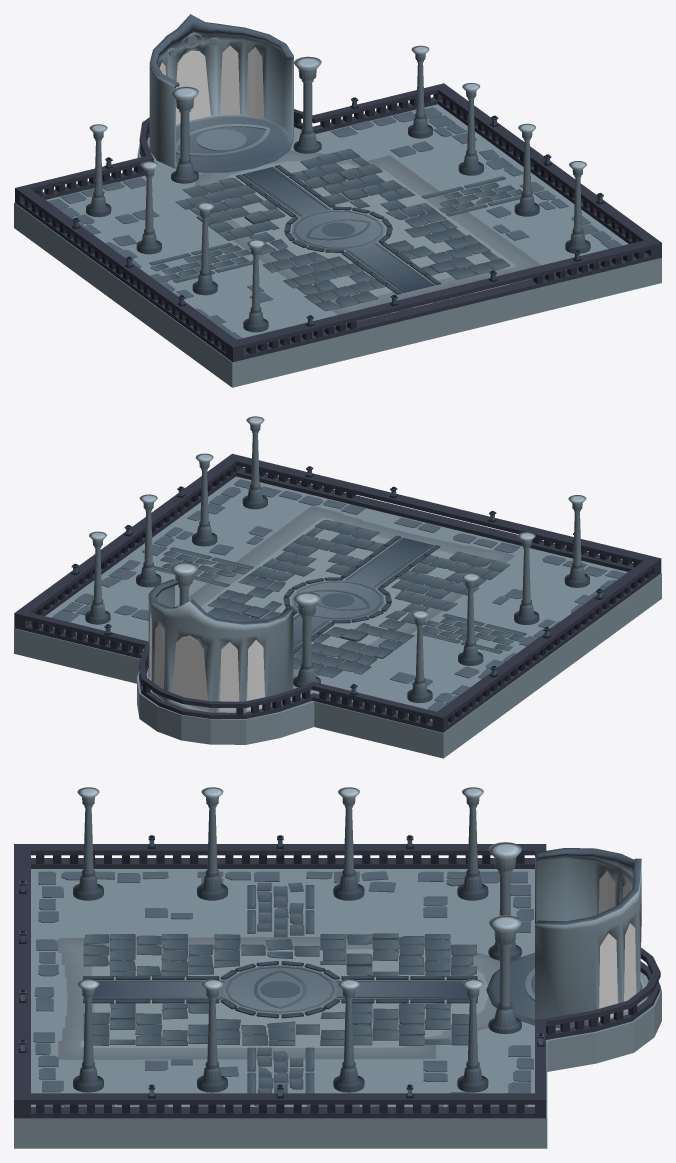
The model's file is MS_Palace01_Boss03.fbx.
The picture shows the model from 3 angles, top to bottom: view 1: azimuth 30°, elevation 25°; view 2: azimuth 150°, elevation 25°; view 3: azimuth 270°, elevation 25°; orthographic projection. The views are drawn at different scales.
Visible parts, largest first — view 1: Cube.001, Cube.006, Cube.007, Cylinder.005, Cube.004, Cylinder.006, Cube.008, Cylinder.008, Cylinder.012, Cylinder.013, Cylinder.014, Cylinder.015 (+9 smaller); view 2: Cube.001, Cube.007, Cube.006, Cylinder.005, Cube.004, Cube.008, Cylinder.006, Cylinder.008, Cylinder.013, Cylinder.014, Cylinder.015, Cylinder.011 (+9 smaller); view 3: Cube.001, Cube.006, Cube.007, Cylinder.005, Cube.004, Cylinder.006, Cube.008, Cylinder.008, Cylinder.015, Cylinder.004, Cylinder.001, Cylinder.007 (+8 smaller).
Boxes of the visible parts, <box> form: Cube.001: <box>14,104,661,387</box>; Cube.006: <box>149,148,522,311</box>; Cube.007: <box>15,83,661,362</box>; Cylinder.005: <box>149,14,293,172</box>; Cube.004: <box>48,107,633,349</box>; Cylinder.006: <box>242,167,434,292</box>; Cube.008: <box>24,95,643,353</box>; Cylinder.008: <box>171,56,321,183</box>; Cylinder.012: <box>176,124,270,156</box>; Cylinder.013: <box>176,50,210,123</box>; Cylinder.014: <box>159,45,239,114</box>; Cylinder.015: <box>246,47,264,117</box>; Cube.001: <box>14,476,661,758</box>; Cube.007: <box>14,453,661,732</box>; Cube.006: <box>154,519,526,677</box>; Cylinder.005: <box>148,579,293,712</box>; Cube.004: <box>42,479,625,721</box>; Cube.008: <box>32,467,651,724</box>; Cylinder.006: <box>290,537,433,648</box>; Cylinder.008: <box>170,562,320,687</box>; Cylinder.013: <box>172,636,208,709</box>; Cylinder.014: <box>154,625,239,711</box>; Cylinder.015: <box>149,614,264,710</box>; Cylinder.011: <box>192,453,217,546</box>; Cube.001: <box>14,869,661,1148</box>; Cube.006: <box>83,882,477,1093</box>; Cube.007: <box>14,844,660,1118</box>; Cylinder.005: <box>486,848,644,1028</box>; Cube.004: <box>33,871,533,1106</box>; Cylinder.006: <box>83,965,477,1014</box>; Cube.008: <box>36,855,524,1113</box>; Cylinder.008: <box>488,842,521,1034</box>; Cylinder.015: <box>599,871,617,1020</box>; Cylinder.004: <box>333,979,364,1092</box>; Cylinder.001: <box>333,787,364,900</box>; Cylinder.007: <box>457,787,488,900</box>.
Size of the model in its own units: 4707 by 1393 by 5034.
